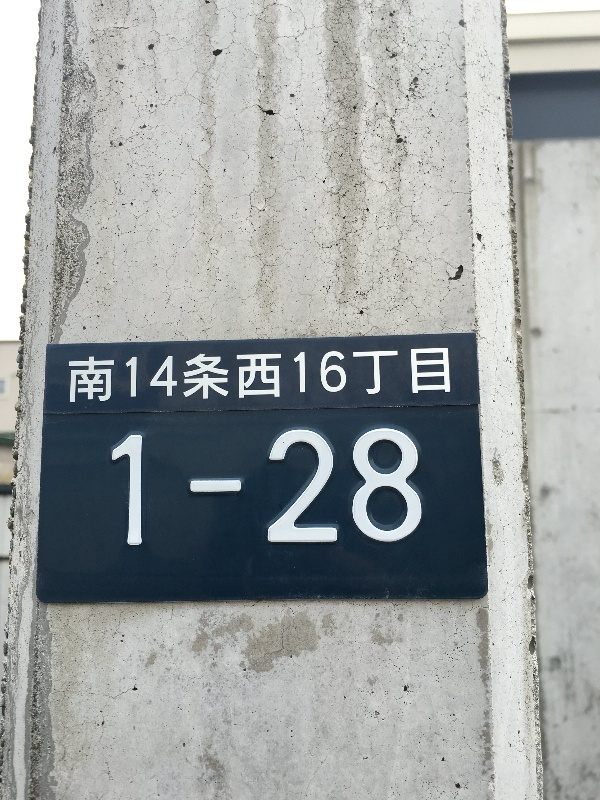text: (113, 428, 128, 547), (129, 428, 144, 547), (145, 428, 160, 547), (161, 428, 176, 547), (177, 428, 192, 547), (193, 428, 208, 547), (209, 428, 224, 547), (225, 428, 240, 547), (241, 428, 256, 547), (257, 428, 272, 547), (273, 428, 288, 547), (289, 428, 304, 547), (305, 428, 320, 547), (321, 428, 336, 547), (337, 428, 352, 547), (353, 428, 368, 547), (369, 428, 384, 547), (385, 428, 400, 547), (401, 428, 416, 547), (81, 348, 96, 406), (97, 348, 112, 406), (113, 348, 128, 406), (129, 348, 144, 406), (145, 348, 160, 406), (161, 348, 176, 406), (177, 348, 192, 406), (193, 348, 208, 406), (209, 348, 224, 406), (225, 348, 240, 406), (241, 348, 256, 406), (257, 348, 272, 406), (273, 348, 288, 406), (289, 348, 304, 406), (305, 348, 320, 406), (321, 348, 336, 406), (337, 348, 352, 406), (353, 348, 368, 406), (369, 348, 384, 406), (385, 348, 400, 406), (401, 348, 416, 406), (417, 348, 432, 406), (433, 348, 448, 406), (417, 428, 424, 547), (68, 348, 80, 406), (449, 348, 452, 406)
